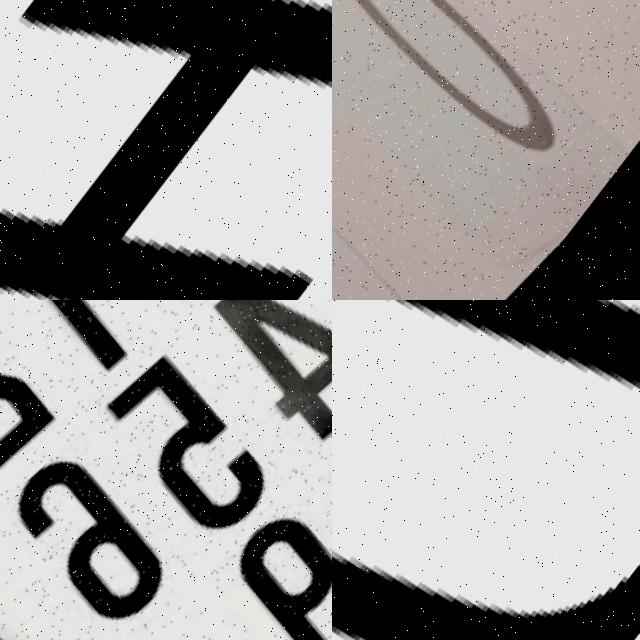0: (332, 0, 640, 228), (37, 300, 291, 329)
1: (0, 300, 194, 401)
2: (0, 300, 107, 504)
4: (155, 300, 332, 488)
5: (60, 326, 329, 579)
6: (0, 422, 227, 640)
7: (0, 506, 127, 640)
8: (284, 393, 332, 621)
9: (190, 484, 332, 640)
H: (0, 0, 332, 300)
U: (332, 300, 640, 640)
